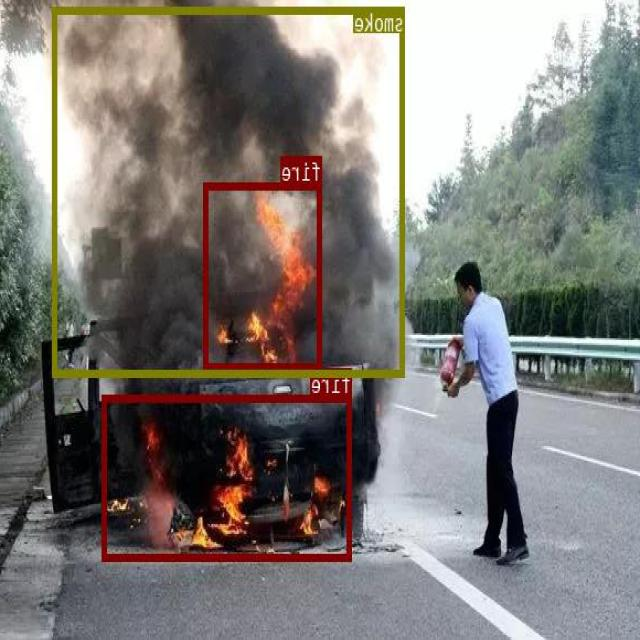fire: (102, 393, 352, 560), (205, 181, 322, 370)
smoke: (54, 7, 405, 376)
